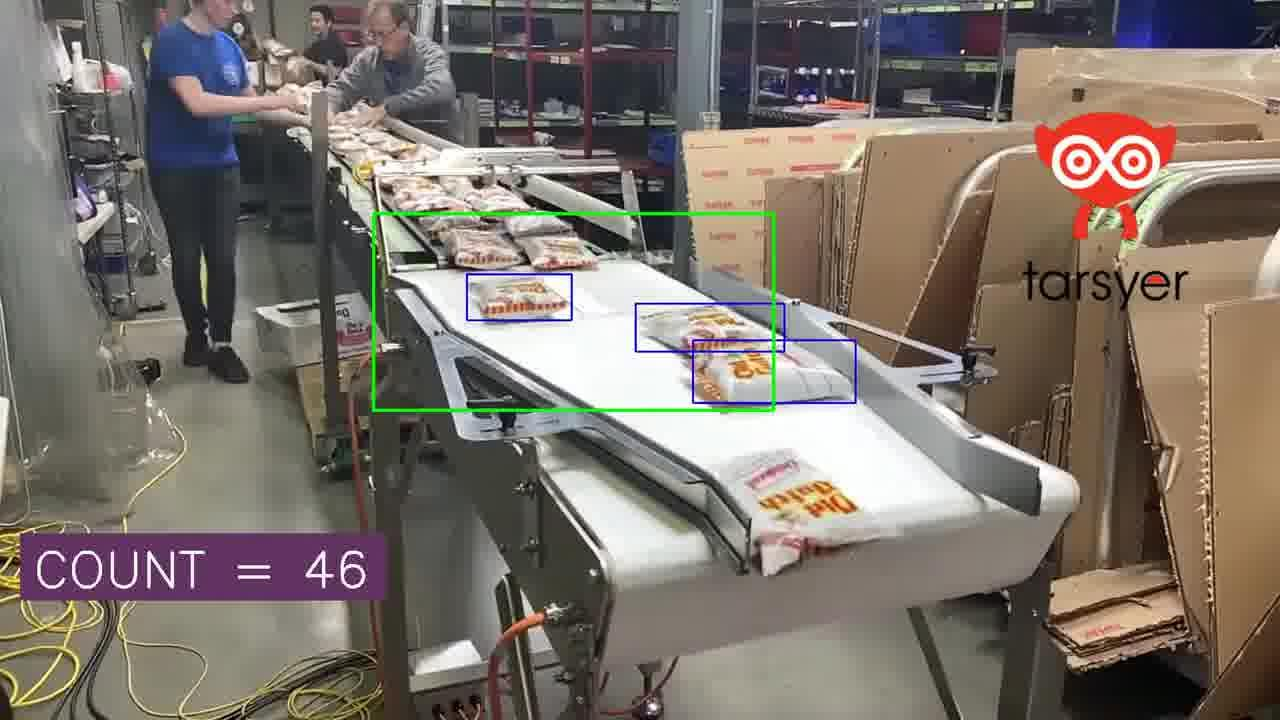Snack: (717, 450, 891, 575), (694, 344, 853, 402), (640, 306, 770, 351), (470, 276, 568, 318), (441, 228, 522, 269), (517, 233, 597, 267), (461, 185, 530, 211), (503, 214, 572, 237), (398, 192, 468, 212), (381, 175, 442, 193), (439, 176, 475, 200), (330, 134, 368, 155), (398, 144, 438, 162)
